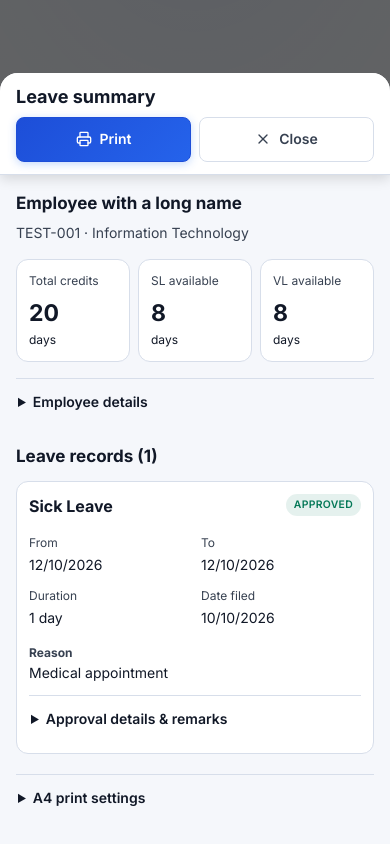
Scenario: mobile leave summary › shows balances and readable records with expandable approval information
Expected: the heading "Employee with a long name" is shown, [16, 192, 242, 212]
Expected: the element named "Sick Leave filed 10/10/2026" shows "Medical appointment", [29, 664, 168, 681]
Click the heading "Approval details & remarks": (137, 718) [46, 710, 227, 727]
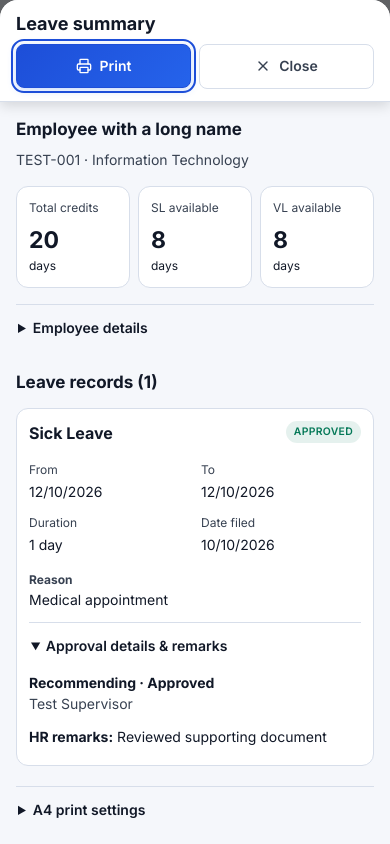
Expected: the text "Test Supervisor" is shown, [29, 695, 133, 712]
Expected: the text "Reviewed supporting document" is shown, [117, 728, 327, 745]
